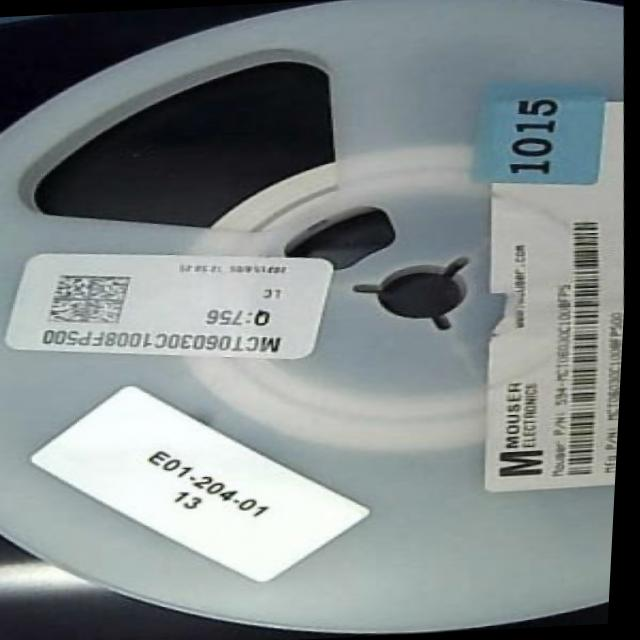datamatrix: (43, 270, 141, 329)
